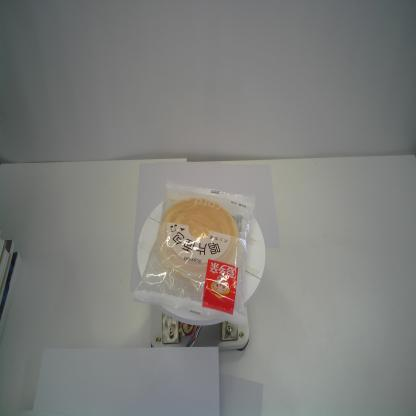Dessert: (130, 179, 258, 329)
